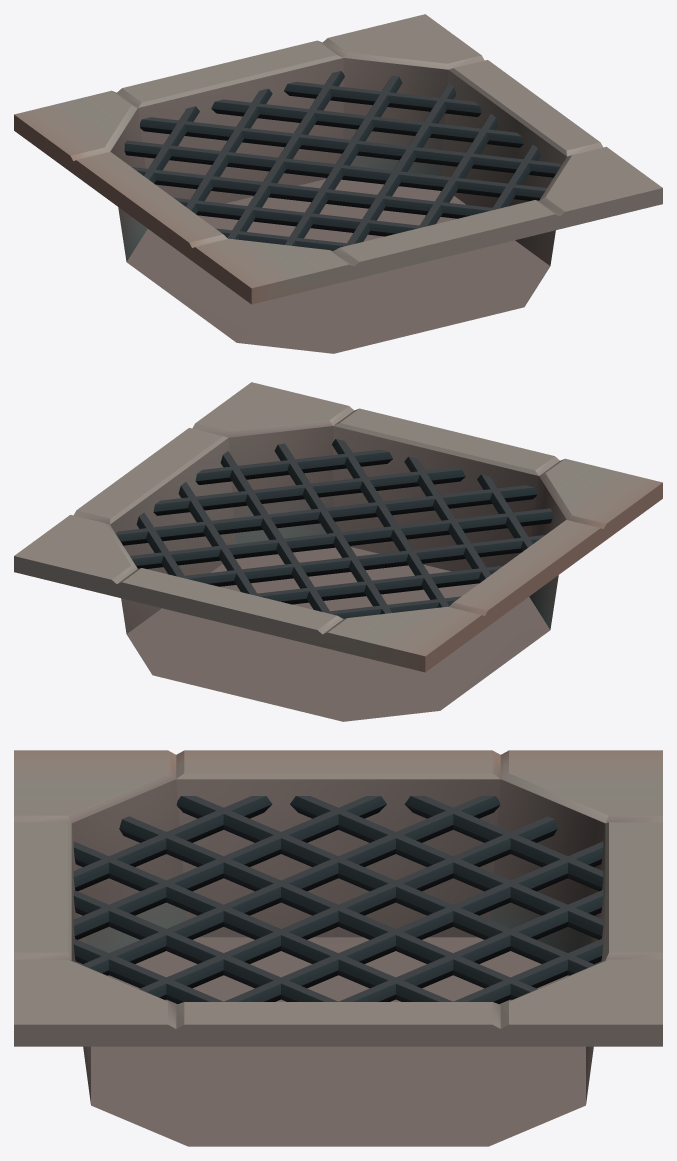
Rendered from kay-grade-chao.gltf.
3 views of the same model, one above another, from view 1: azimuth 30°, elevation 25°; view 2: azimuth 150°, elevation 25°; view 3: azimuth 270°, elevation 25° (orthographic). The views are drawn at different scales.
Visible parts, largest first — view 1: floor_tile_big_grate; view 2: floor_tile_big_grate; view 3: floor_tile_big_grate.
Boxes of the visible parts, <box> form: floor_tile_big_grate: <box>14,14,662,353</box>; floor_tile_big_grate: <box>14,382,662,721</box>; floor_tile_big_grate: <box>14,750,662,1146</box>.
Size of the model in its own units: 2.6 by 0.6825 by 2.6.
1 material, 1 textured.
